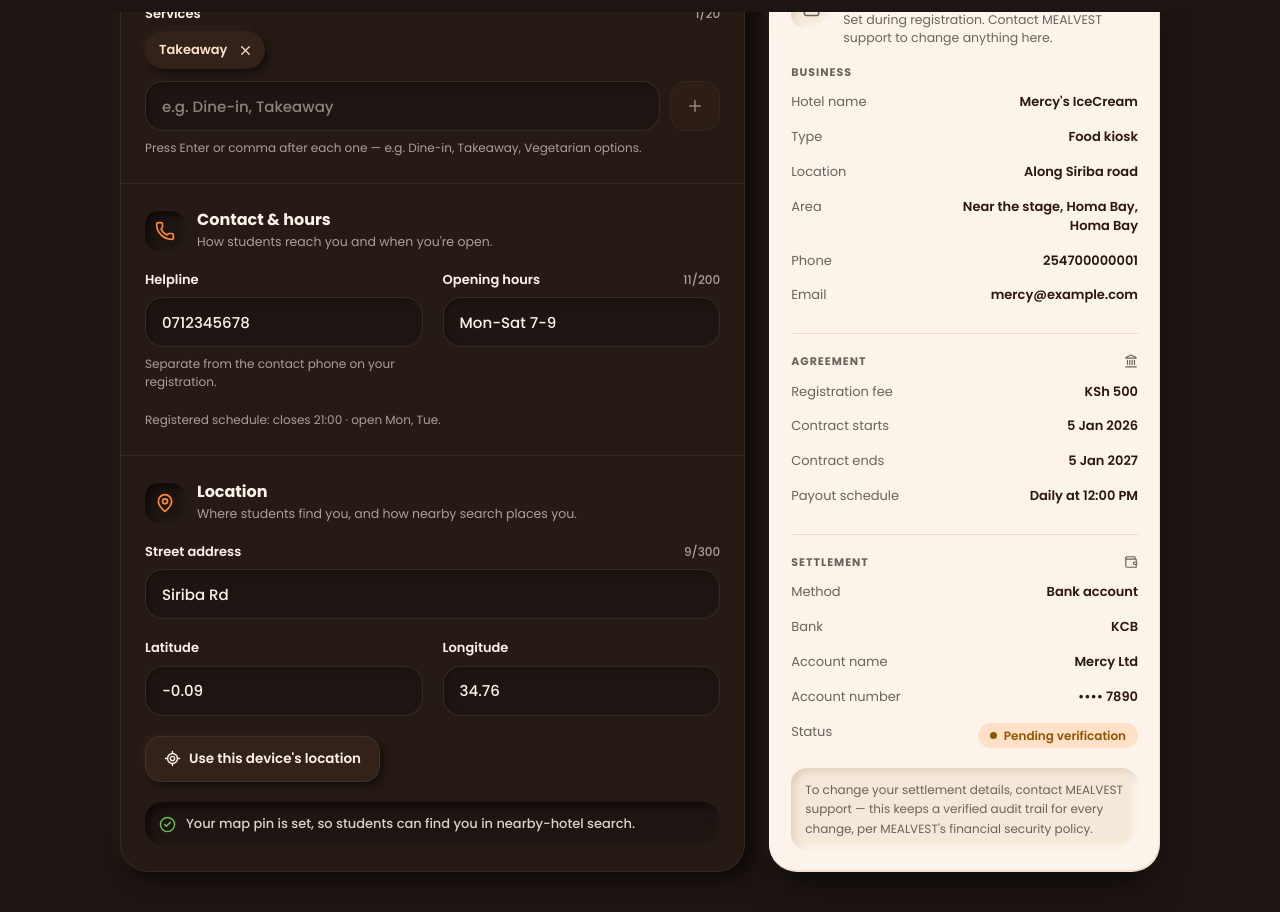
Scenario: HotelProfileScreen › discard restores saved values and hides the bar
(page scrolled)
Replace the text in the field labelled "Street address" with "Elsewhere" at [433, 594], box [145,570,720,620]
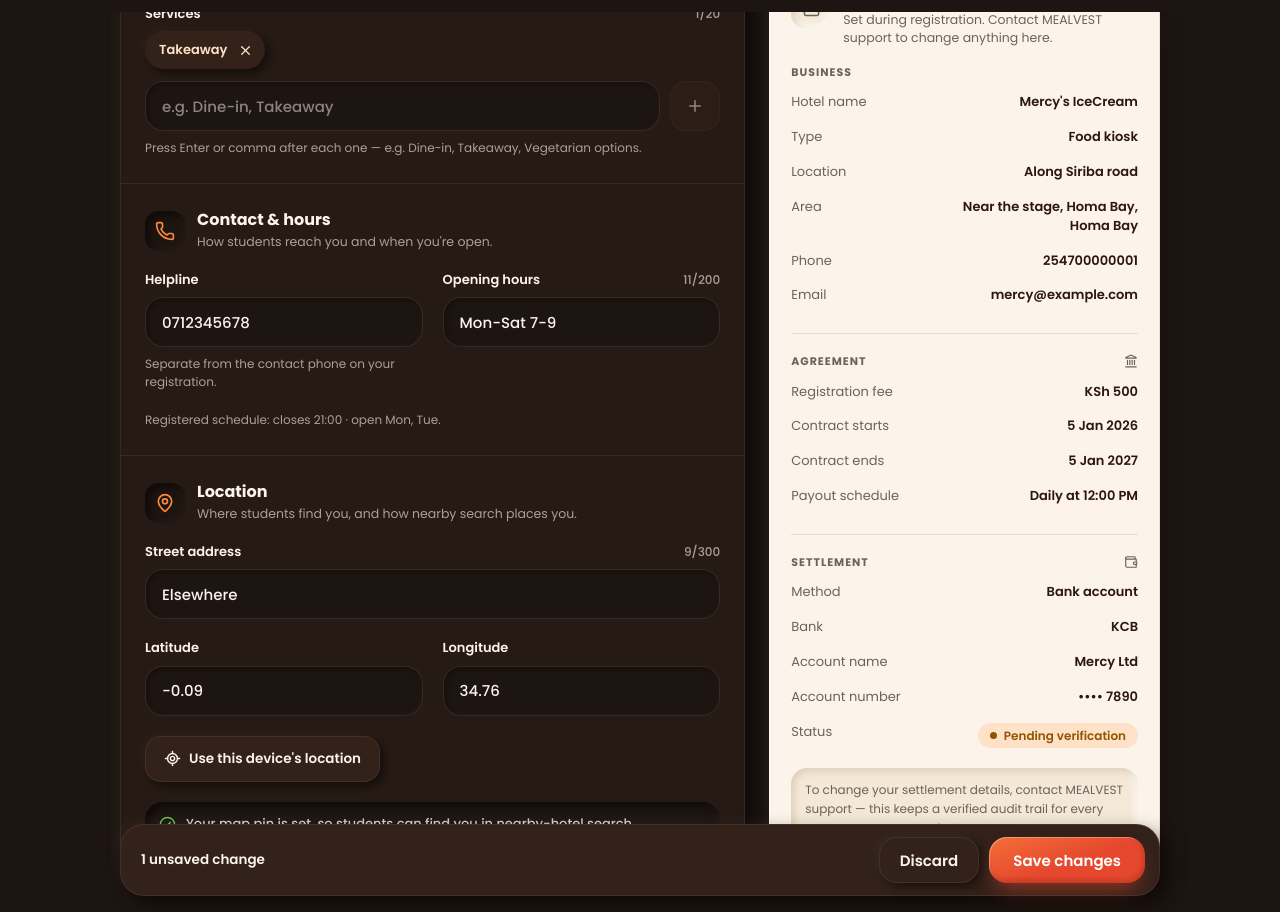
Click the button "Discard" at [929, 860], box [879,837,979,883]
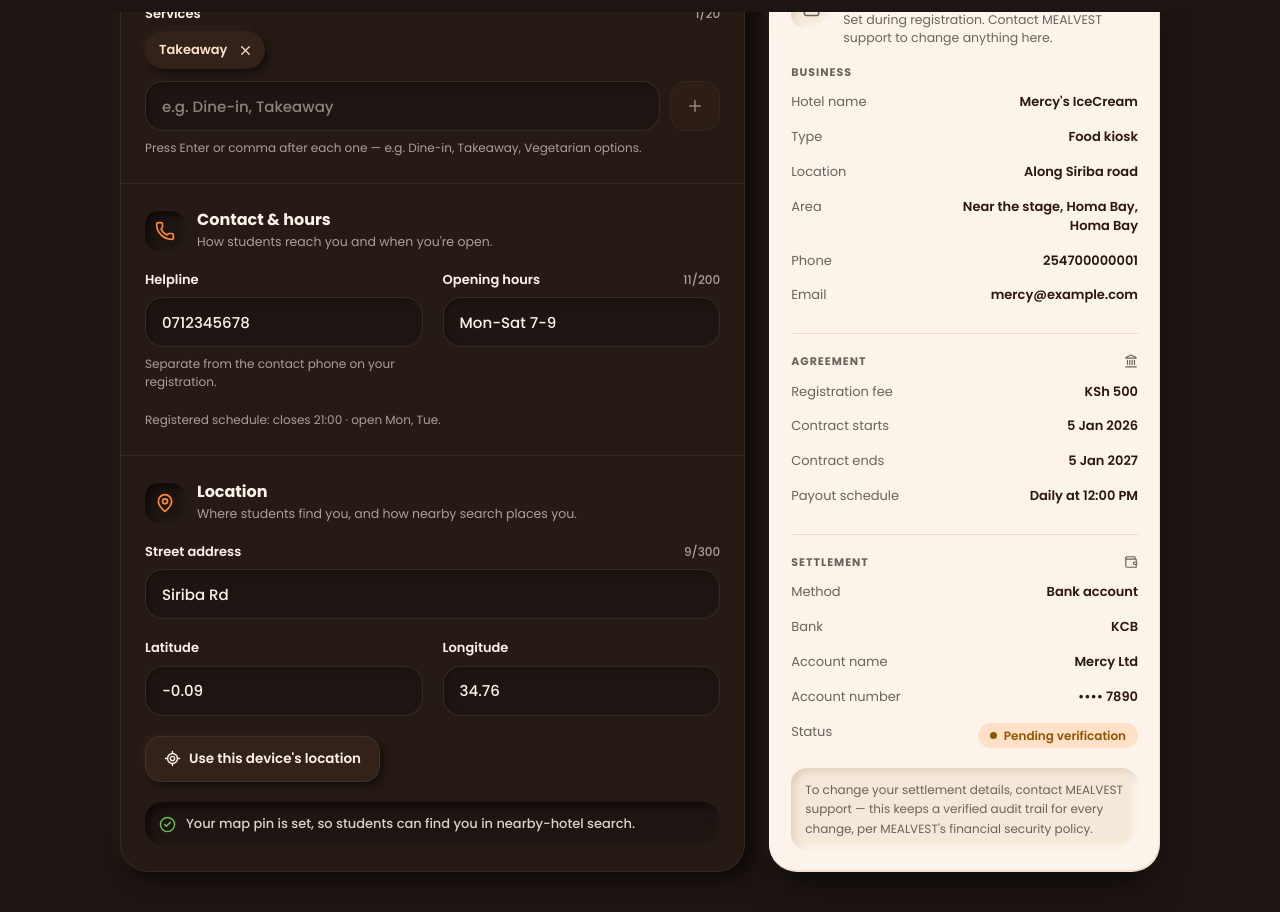
Expected: the text "unsaved" is gone
